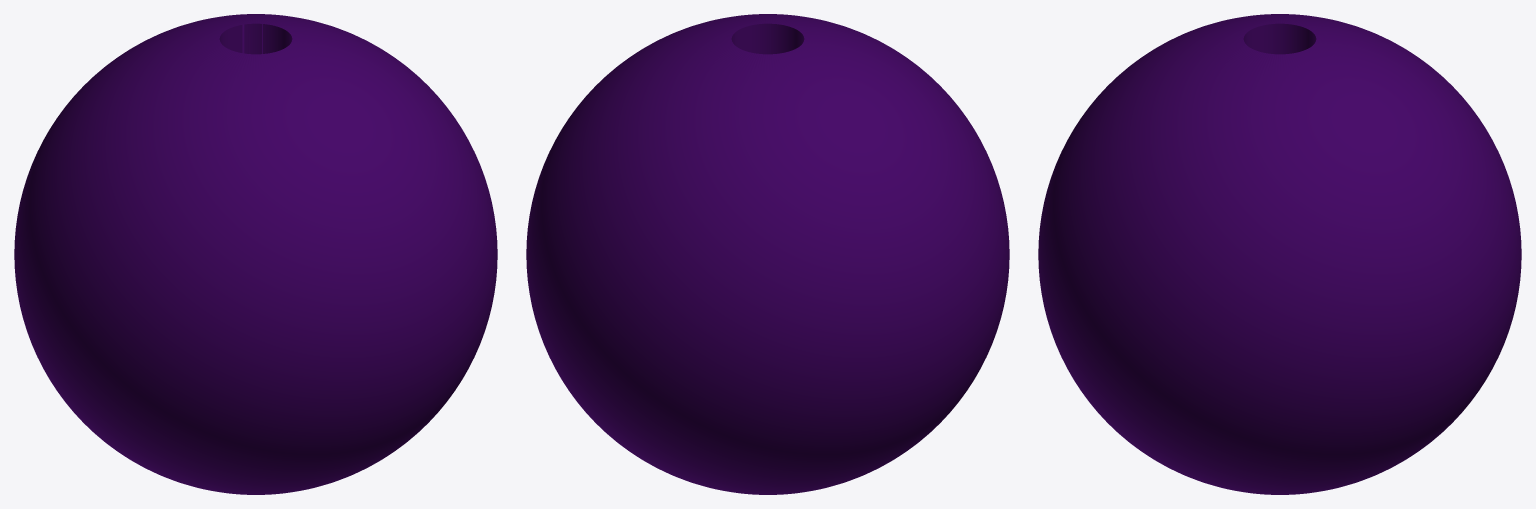
File: newbead.glb
3 views of the same model, side by side, from view 1: azimuth 30°, elevation 25°; view 2: azimuth 150°, elevation 25°; view 3: azimuth 270°, elevation 25° (orthographic).
Parts seen in each view (by area): view 1: 球体; view 2: 球体; view 3: 球体.
Boxes of the visible parts, x1,y1,x2,y2 form: 球体: [14, 14, 497, 494]; 球体: [526, 14, 1009, 494]; 球体: [1038, 14, 1521, 494].
Bounding box in the file's own units: 0.01 × 0.00984 × 0.01.
